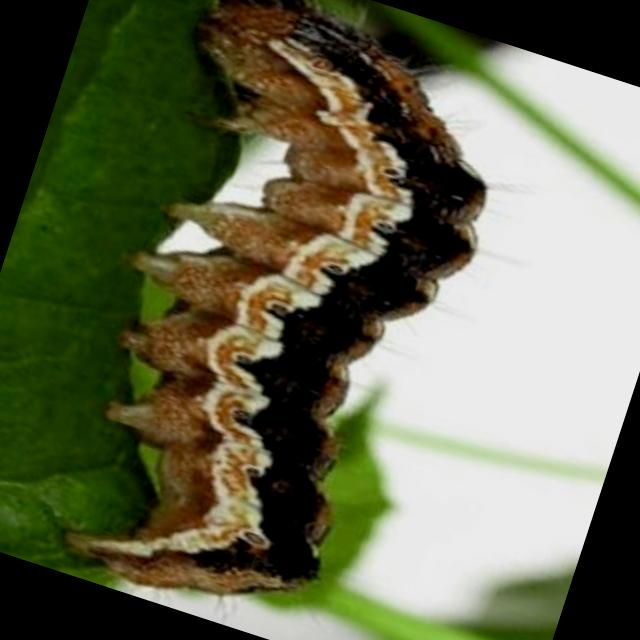Cotton bollworm: (16, 0, 548, 640)
